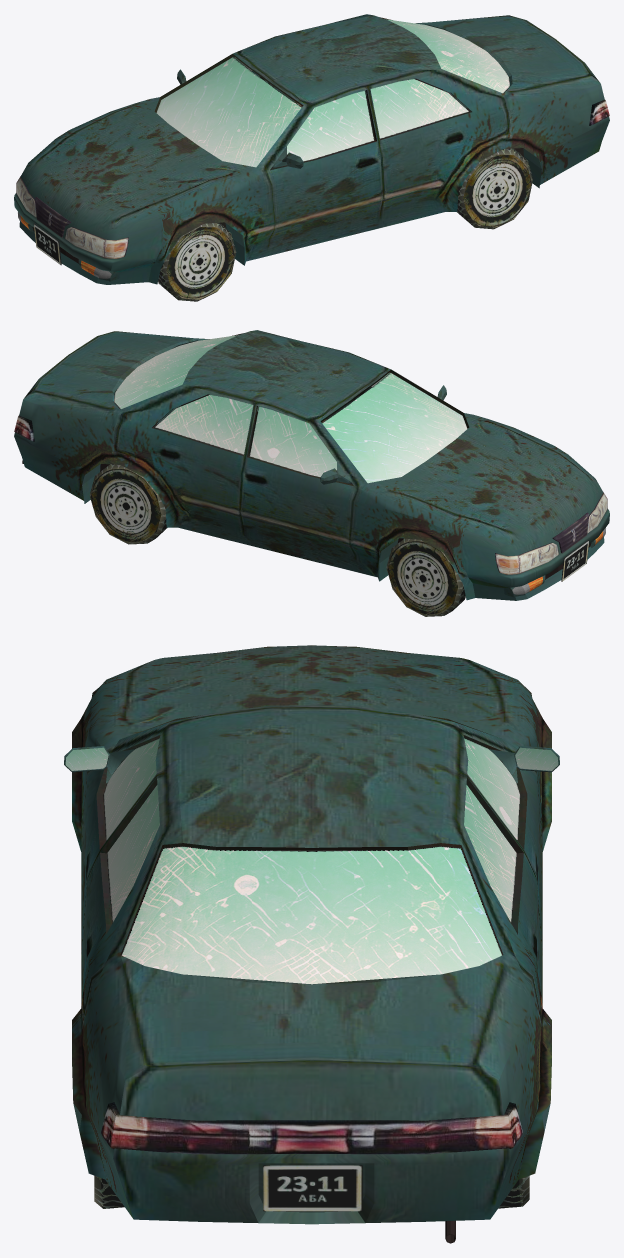
File: Low_poly_car_toyota.glb
3 renders of one model, top to bottom at view 1: azimuth 30°, elevation 25°; view 2: azimuth 150°, elevation 25°; view 3: azimuth 270°, elevation 25°, orthographic. The views are drawn at different scales.
Visible parts, largest first — view 1: unnamed (×7); view 2: unnamed (×7); view 3: unnamed (×6).
Boxes of the visible parts, x1,y1,x2,y2 form: unnamed (×7): (14, 14, 609, 301); unnamed (×7): (14, 330, 609, 616); unnamed (×6): (64, 645, 559, 1243).
Bounding box in the file's own units: 4.44 × 1.35 × 1.83.
8 materials, 8 textured.
